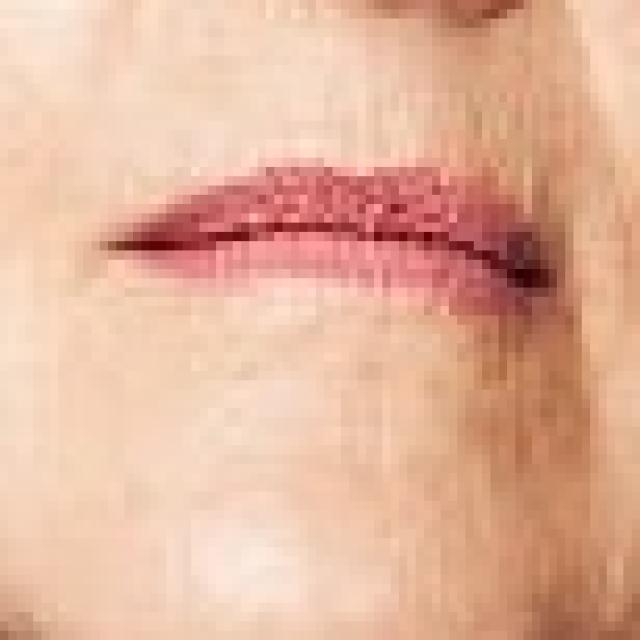closed-mouth: (91, 148, 557, 297)
